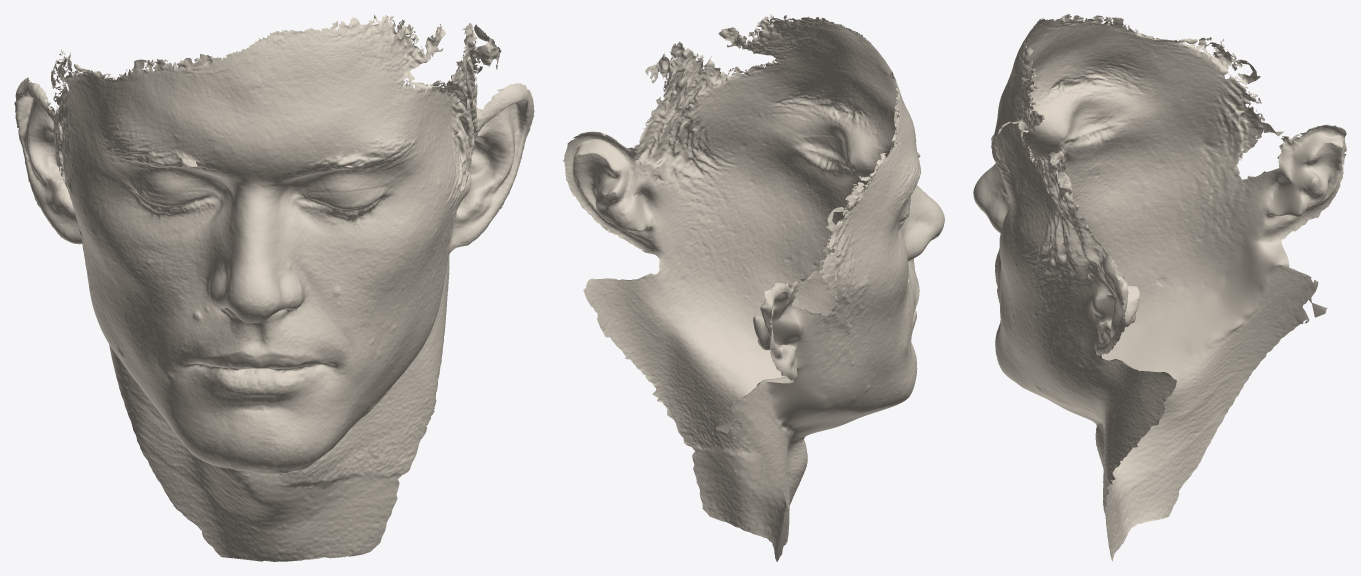
3 renders of one model, left to right at view 1: azimuth 30°, elevation 25°; view 2: azimuth 150°, elevation 25°; view 3: azimuth 270°, elevation 25°, orthographic. The views are drawn at different scales.
Parts seen in each view (by area): view 1: Object_2, Object_3, Object_5, Object_6, Object_4, Object_7; view 2: Object_4, Object_3, Object_2, Object_5, Object_6, Object_7; view 3: Object_5, Object_6, Object_4, Object_3, Object_2, Object_7.
Boxes of the visible parts, box(x1,y1,x2,y2) form: Object_2: box(157, 14, 534, 535); Object_3: box(57, 25, 526, 441); Object_5: box(17, 19, 527, 560); Object_6: box(14, 22, 532, 561); Object_4: box(19, 77, 493, 473); Object_7: box(15, 15, 484, 560); Object_4: box(595, 85, 919, 376); Object_3: box(569, 22, 944, 419); Object_2: box(563, 15, 937, 501); Object_5: box(575, 16, 923, 534); Object_6: box(566, 16, 938, 561); Object_7: box(630, 14, 943, 558); Object_5: box(1027, 40, 1346, 561); Object_6: box(973, 18, 1346, 557); Object_4: box(995, 56, 1345, 413); Object_3: box(974, 17, 1248, 484); Object_2: box(975, 14, 1176, 549); Object_7: box(991, 15, 1345, 560).
Bounding box in the file's own units: 179 × 240 × 166.
